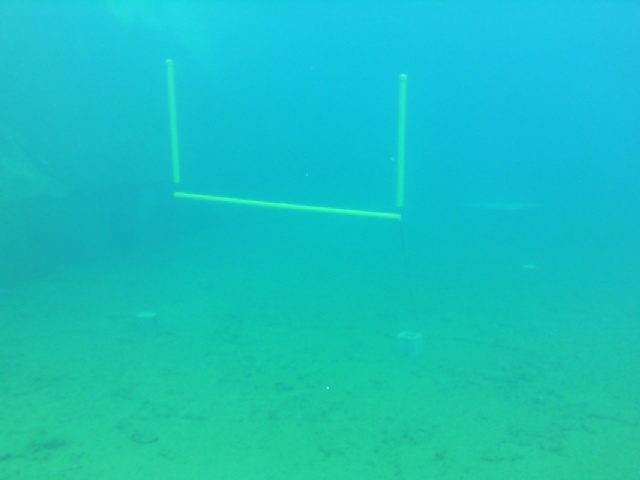channel: (163, 56, 422, 225)
